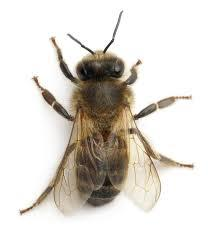worker-bee: (35, 16, 188, 211)
